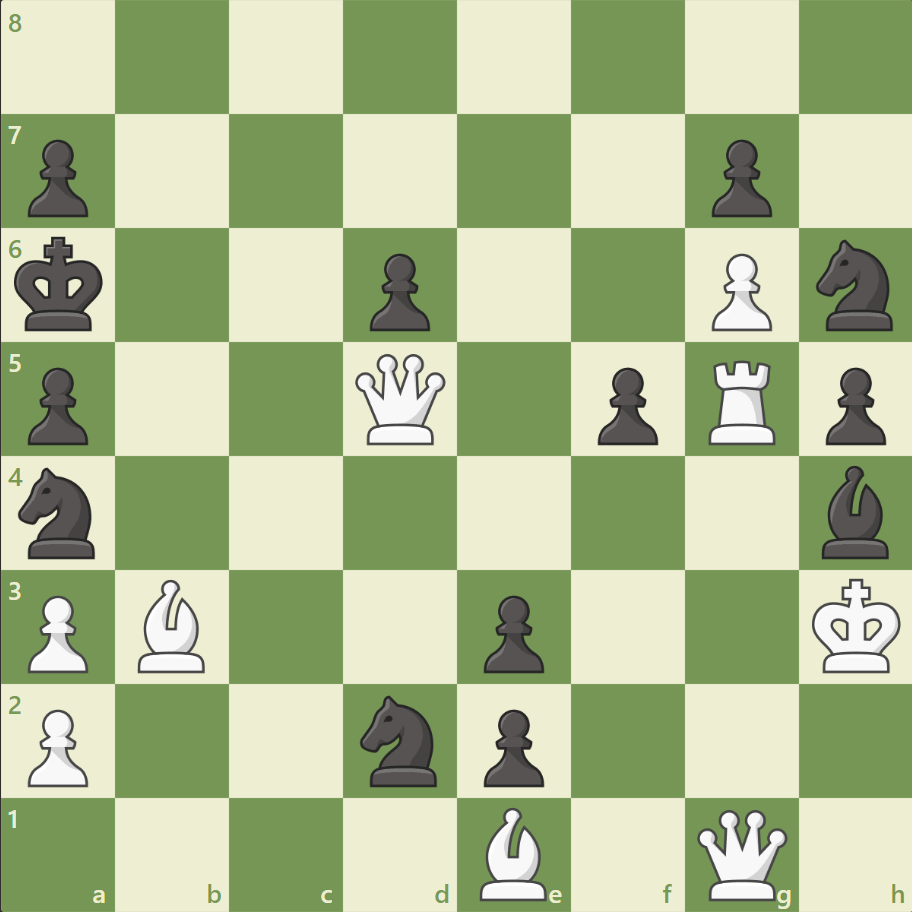B: (471, 801, 555, 904), (131, 574, 215, 676)
K: (806, 571, 906, 679)
P: (701, 246, 776, 337), (20, 586, 95, 677), (20, 700, 95, 791)
Q: (351, 349, 450, 449), (691, 804, 790, 903)
R: (700, 352, 783, 449)
b: (812, 460, 896, 563)
k: (11, 231, 111, 339)
n: (351, 688, 449, 791), (806, 234, 903, 337), (11, 461, 108, 564)
p: (20, 132, 95, 223), (701, 132, 776, 223), (20, 359, 95, 450), (474, 586, 549, 677), (474, 700, 549, 791), (361, 246, 435, 337), (588, 359, 662, 450), (815, 359, 889, 450)
